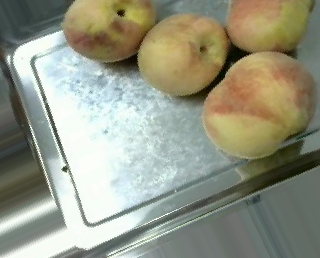Peach: (203, 49, 314, 160), (137, 11, 228, 96), (63, 0, 156, 62), (225, 0, 312, 53)
